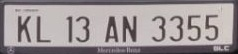character: (35, 14, 52, 44), (149, 14, 166, 43), (16, 14, 32, 43), (121, 14, 137, 43), (168, 14, 184, 42), (185, 13, 201, 41), (75, 15, 90, 44), (104, 14, 119, 43), (205, 13, 219, 42), (64, 14, 74, 43)
